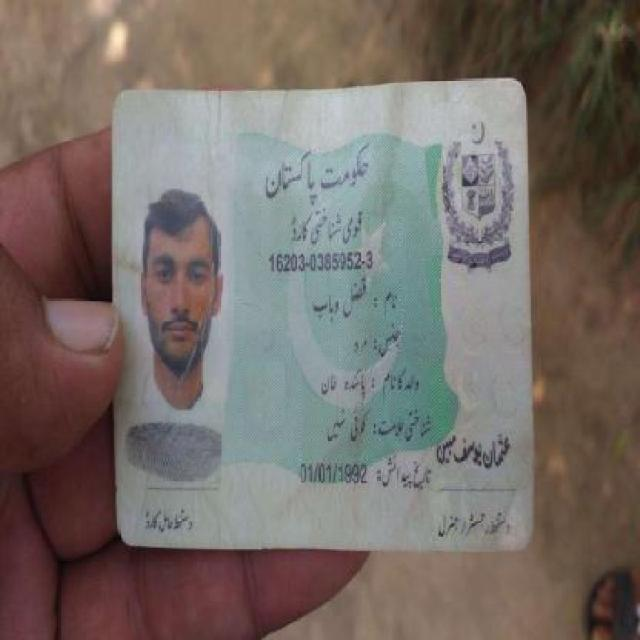Front: (101, 83, 538, 557)
